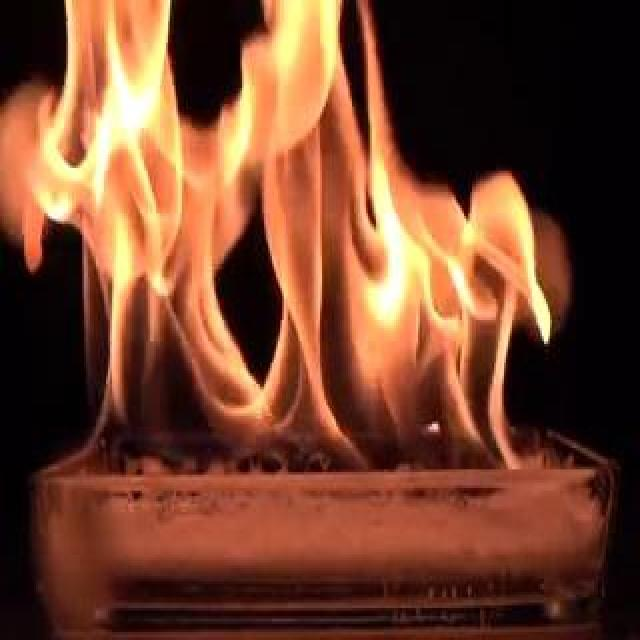Fire: (62, 2, 560, 482)
